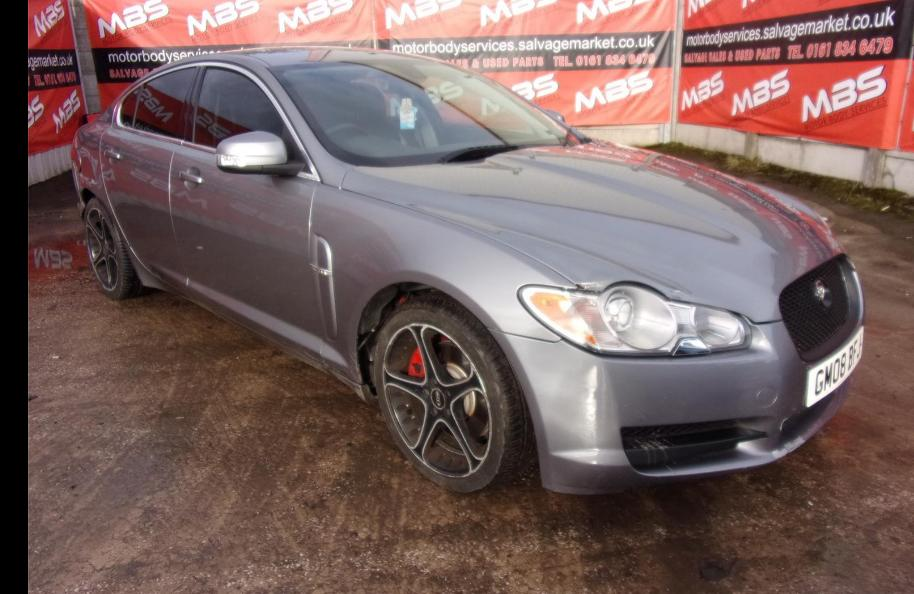Back-door: (101, 62, 202, 287)
Back-wheel: (84, 201, 142, 298)
Back-window: (123, 69, 196, 137)
Fender: (309, 187, 576, 382)
Front-bumper: (487, 271, 865, 496)
Front-door: (169, 60, 322, 359)
Front-wheel: (374, 294, 535, 492)
Front-window: (198, 68, 289, 148)
Grille: (779, 256, 860, 360)
Headlight: (519, 282, 751, 359)
Hood: (342, 140, 841, 323)
License-plate: (807, 333, 862, 406)
Mirror: (219, 133, 305, 175)
Quarter-panel: (71, 105, 135, 256)
Rocker-panel: (127, 252, 375, 400)
Roof: (144, 49, 424, 77)
Windshield: (269, 60, 576, 164)
